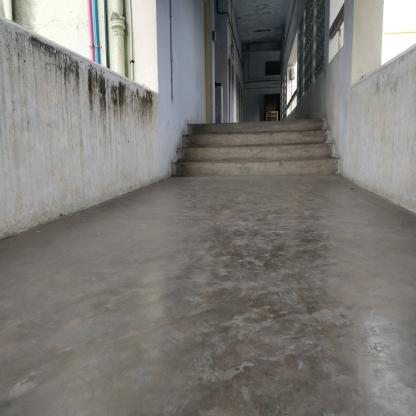stairs: (189, 126, 331, 174)
